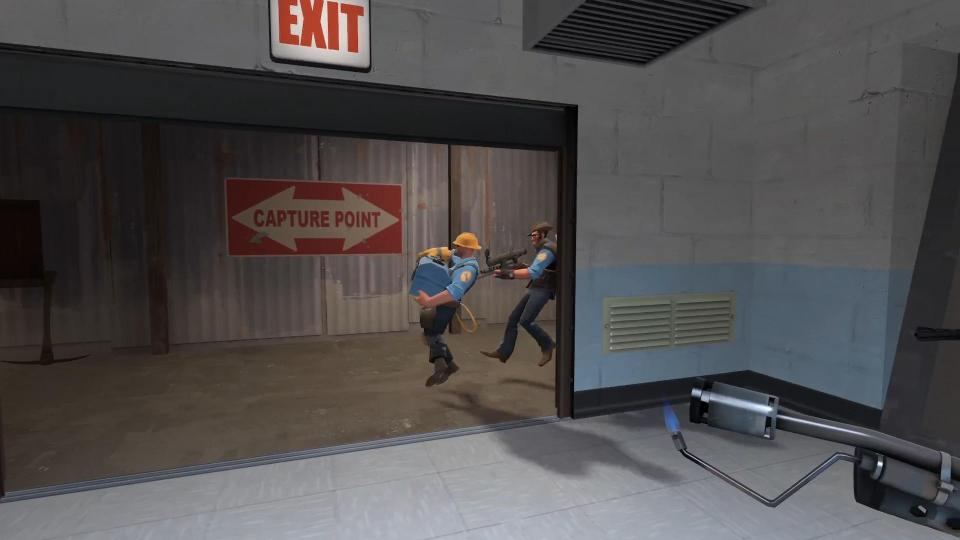Enemy: (481, 219, 558, 368), (409, 232, 482, 387)
